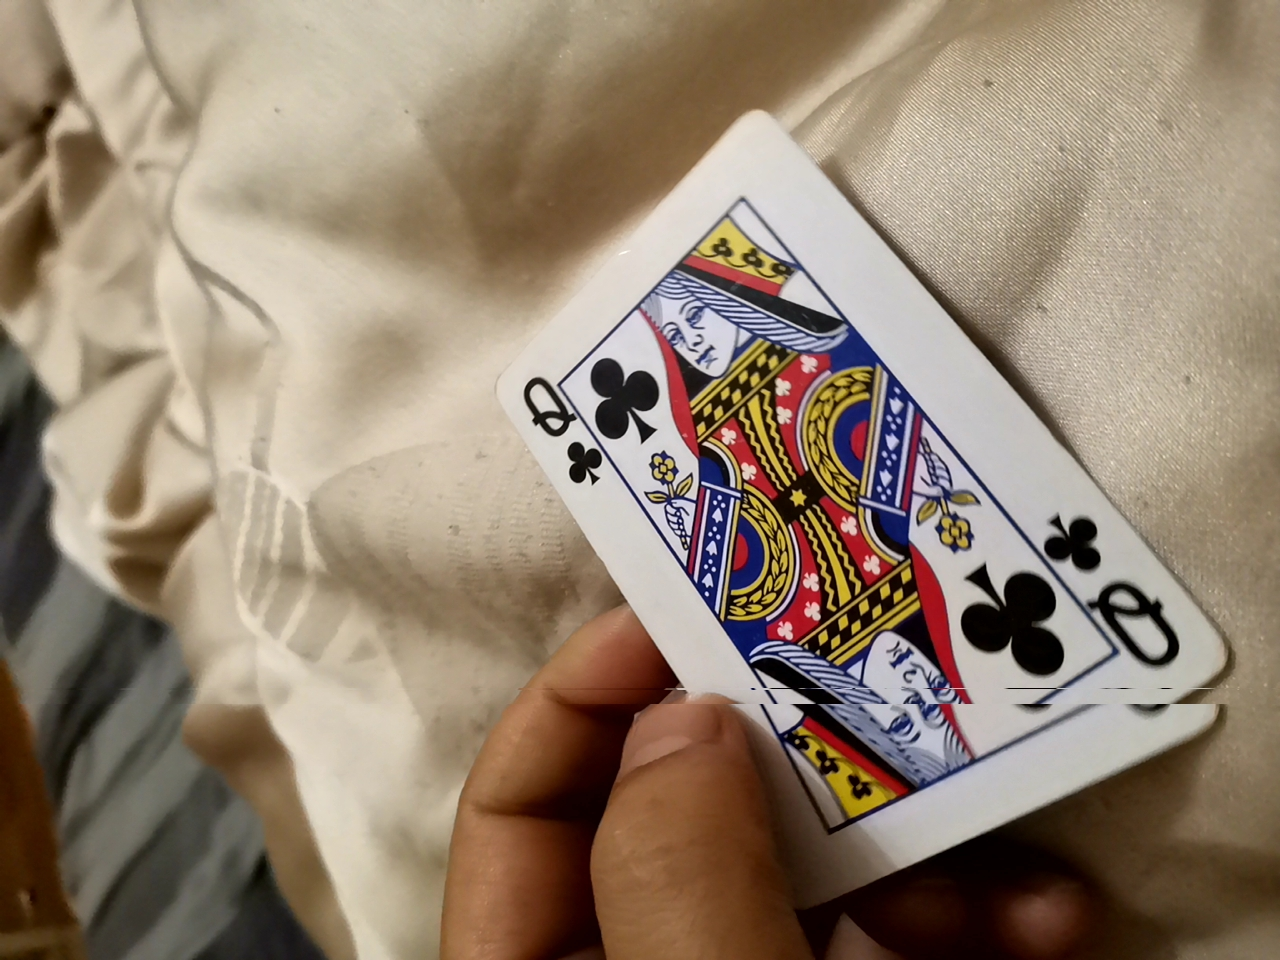mh q: (489, 102, 1186, 893)
